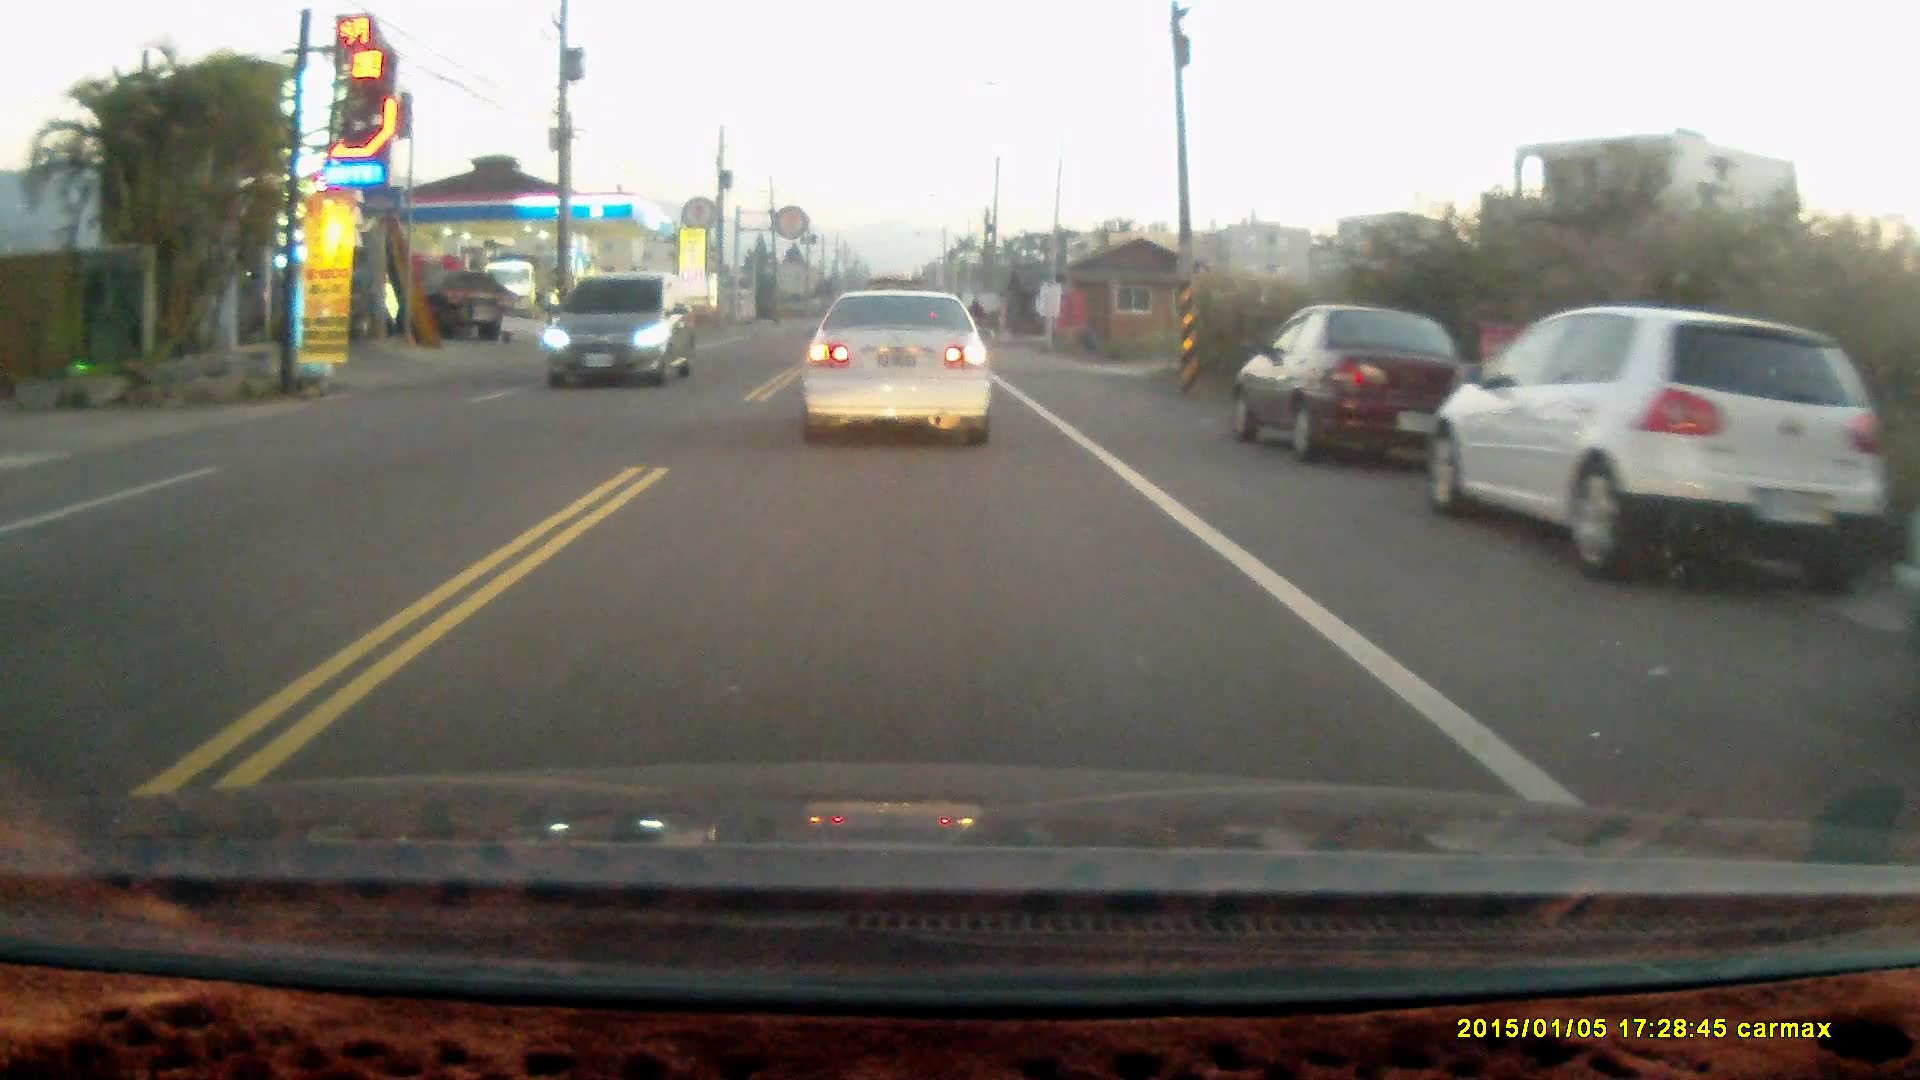vehicle: (1432, 306, 1884, 576), (1232, 306, 1487, 459), (796, 280, 996, 446), (545, 274, 698, 393)
